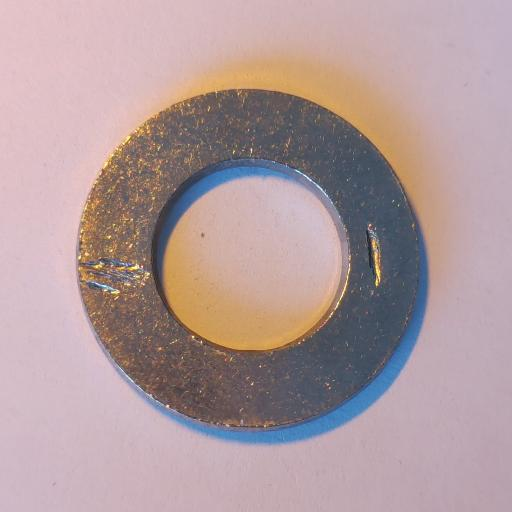scratch: (79, 258, 150, 294), (367, 222, 382, 287)
